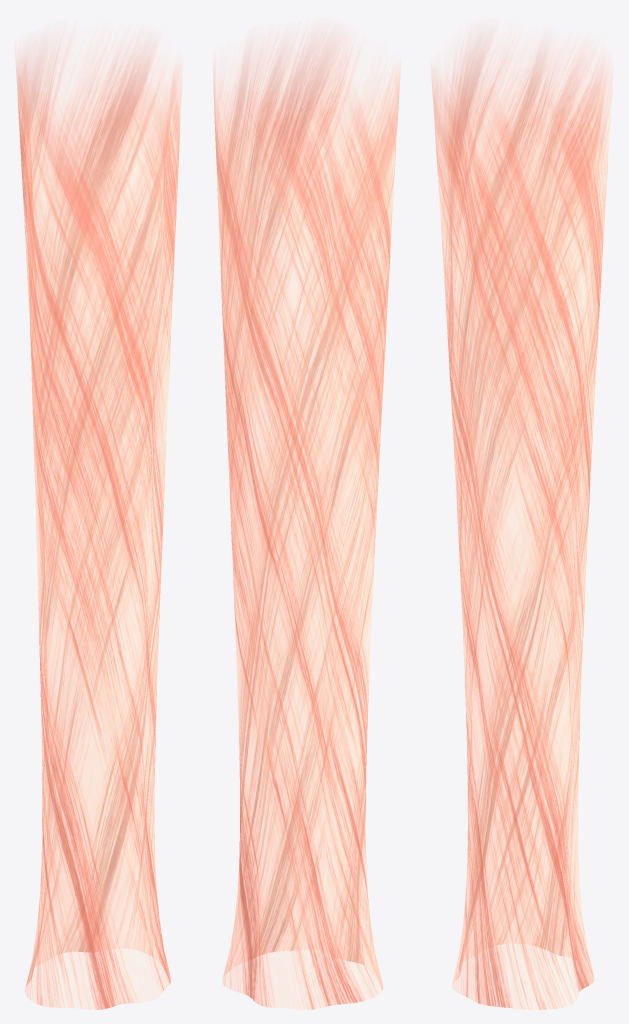
Rendered from devil_core_1.glb.
3 views of the same model, side by side, from view 1: azimuth 30°, elevation 25°; view 2: azimuth 150°, elevation 25°; view 3: azimuth 270°, elevation 25° (orthographic).
Parts seen in each view (by area): view 1: devil_core_1; view 2: devil_core_1; view 3: devil_core_1.
Part boxes in pixels (<box>): devil_core_1: <box>15,38,182,1009</box>; devil_core_1: <box>213,34,400,1009</box>; devil_core_1: <box>431,35,612,1009</box>.
Bounding box in the file's own units: 3.69 × 21.2 × 3.83.
1 material, 1 textured.
